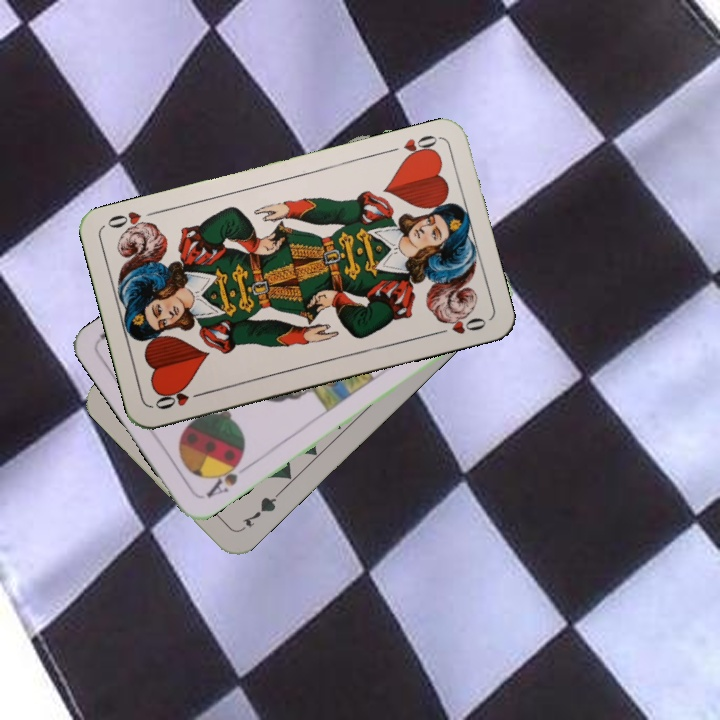G7: (235, 488, 282, 534)
HO: (383, 131, 442, 163), (151, 384, 208, 413)
SA: (202, 454, 246, 501)
